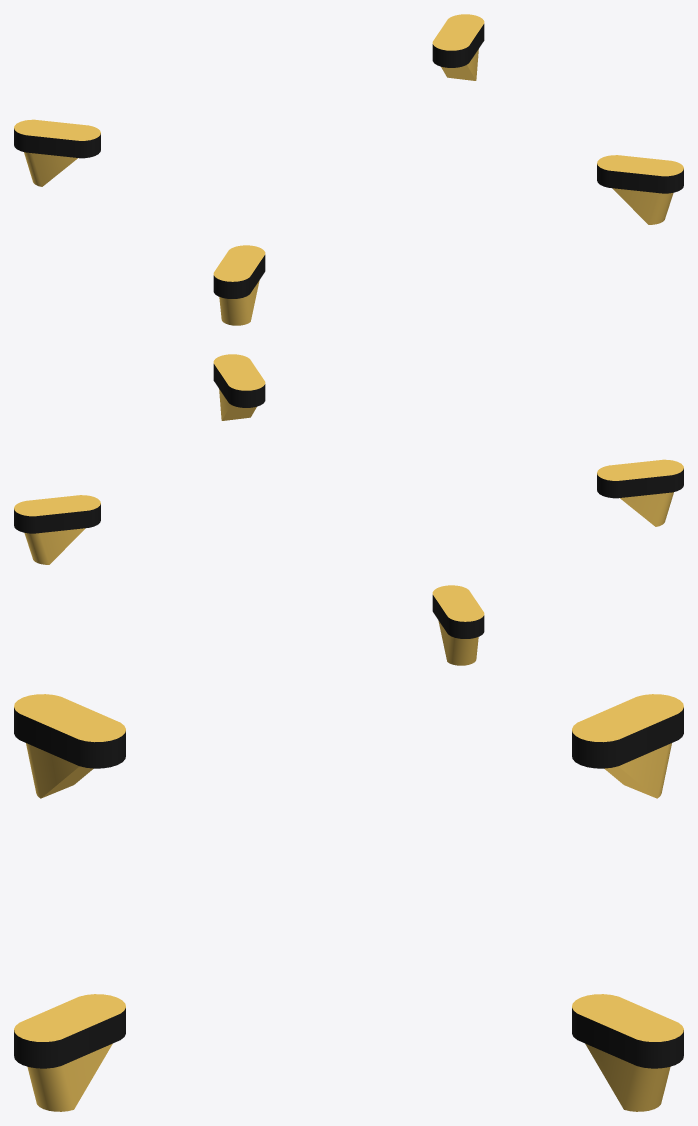
File: GB_Leg_A.glb
3 views of the same model, one above another, from view 1: azimuth 30°, elevation 25°; view 2: azimuth 150°, elevation 25°; view 3: azimuth 270°, elevation 25° (orthographic). The views are drawn at different scales.
Parts seen in each view (by area): view 1: GB_Leg_A; view 2: GB_Leg_A; view 3: GB_Leg_A.
Part boxes in pixels (bbox=[...]): GB_Leg_A: bbox=[14, 14, 683, 325]; GB_Leg_A: bbox=[14, 354, 683, 665]; GB_Leg_A: bbox=[14, 694, 683, 1111].
Bounding box in the file's own units: 0.3796 × 0.0404 × 0.3088.
